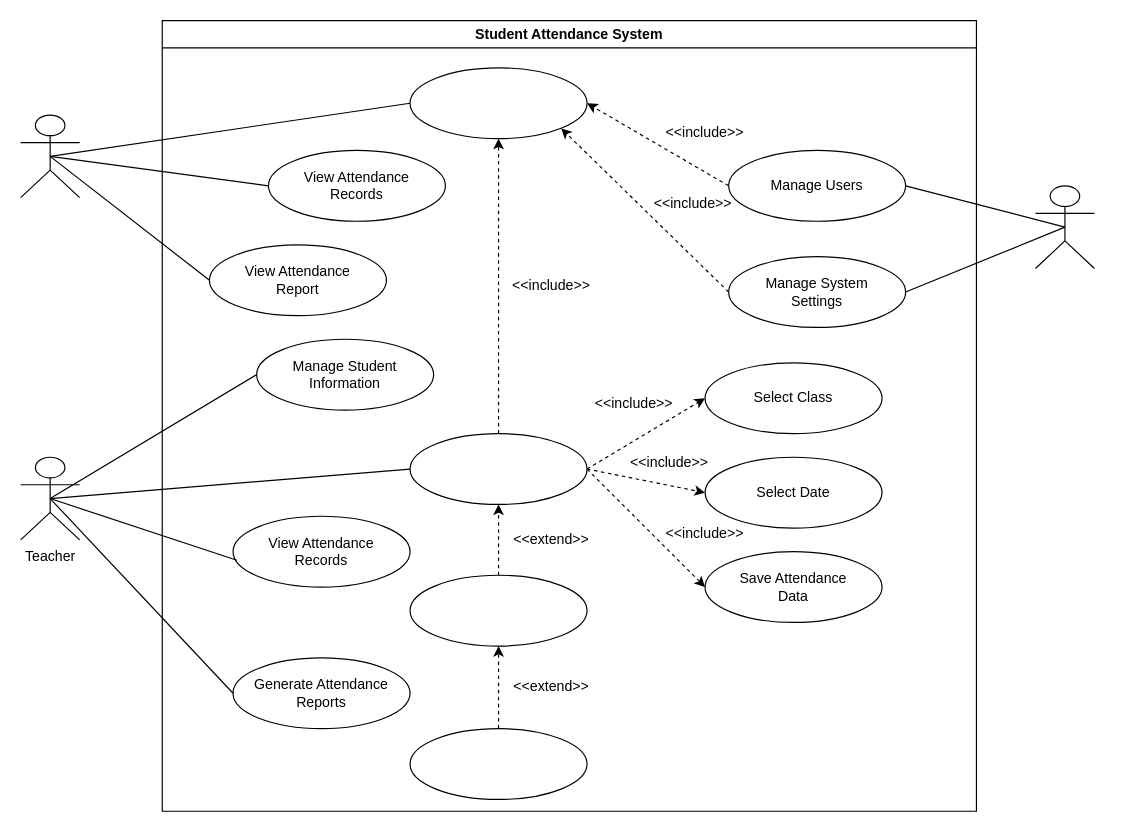
The diagram is 1127 pixels wide and 832 high, and some of its shapes have lost their labels. Here are the shapes that lost their labels. From the top down, the centre of each, then its label:
the point at 498,103: Login
the point at 49,156: Student
the point at 1064,226: Administrator
the point at 498,468: Record Attendance
the point at 498,610: Edit Attendance
the point at 498,763: Delete Attendance
